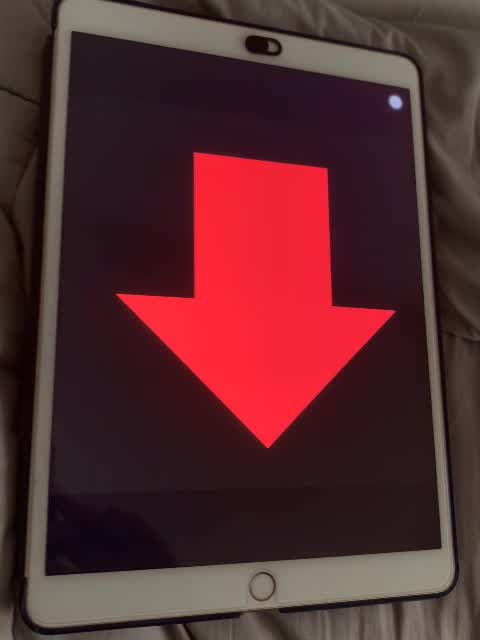down: (115, 146, 398, 454)
